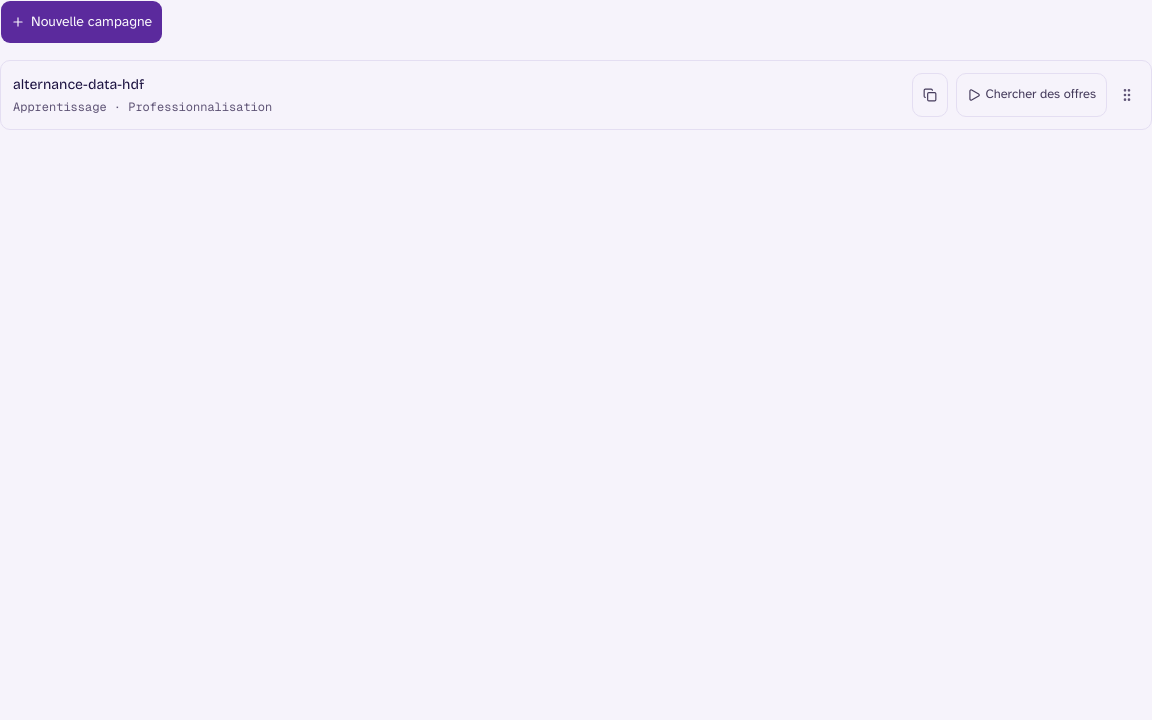
it: CampaignsManager › opens the edit dialog when a campaign row is clicked
The width and height of the screenshot is (1152, 720).
Click the text "alternance-data-hdf": (79, 85) x1=13 y1=75 x2=144 y2=95
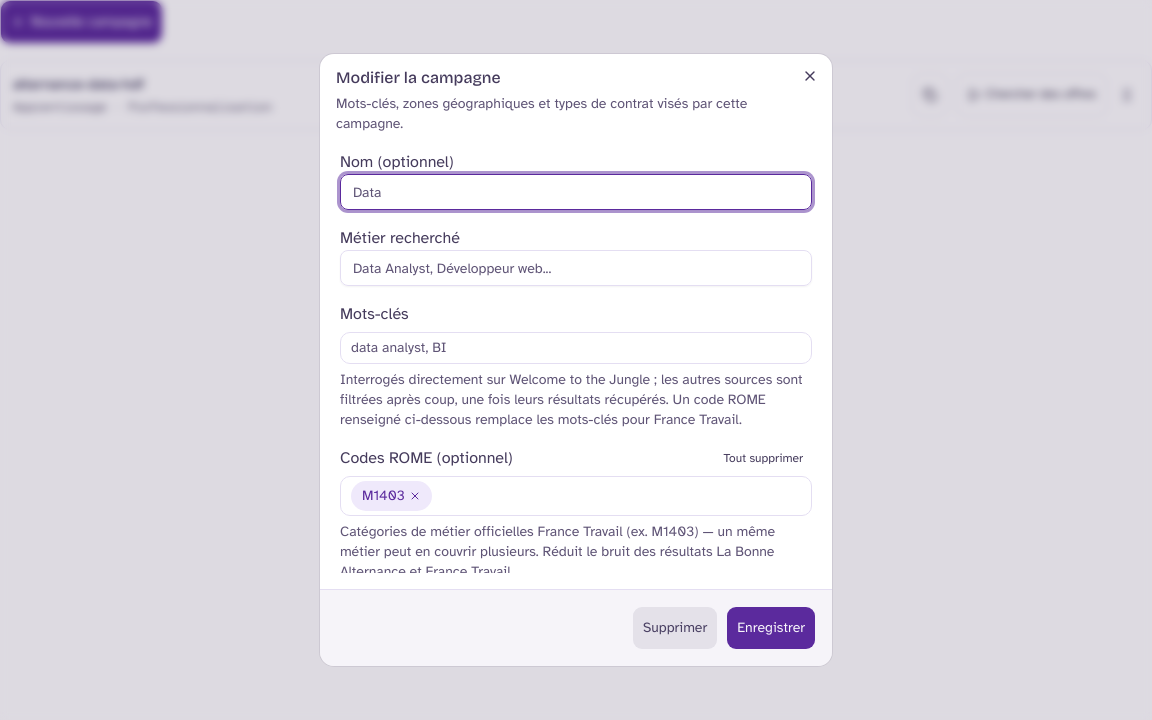
expect the heading "Modifier la campagne" is shown: met, box x1=336 y1=68 x2=501 y2=87
